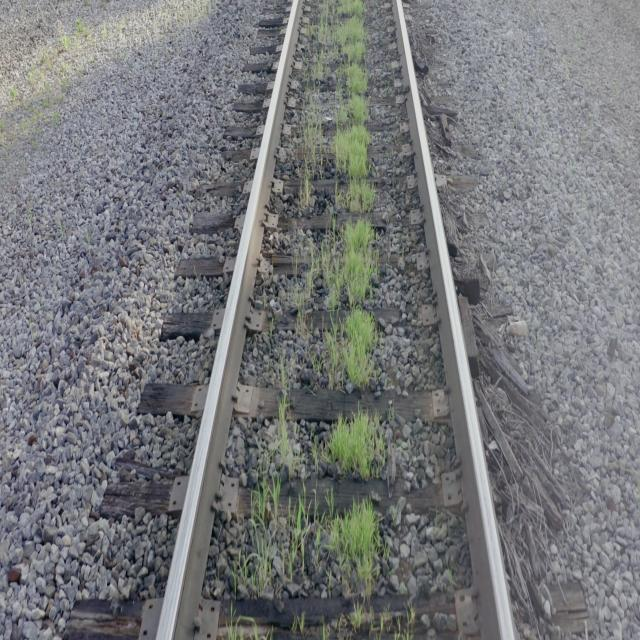Plant: (296, 0, 376, 213), (295, 220, 379, 389), (242, 480, 309, 596), (311, 411, 388, 480), (329, 500, 381, 596), (330, 500, 380, 596), (275, 393, 300, 476), (278, 347, 295, 391)
